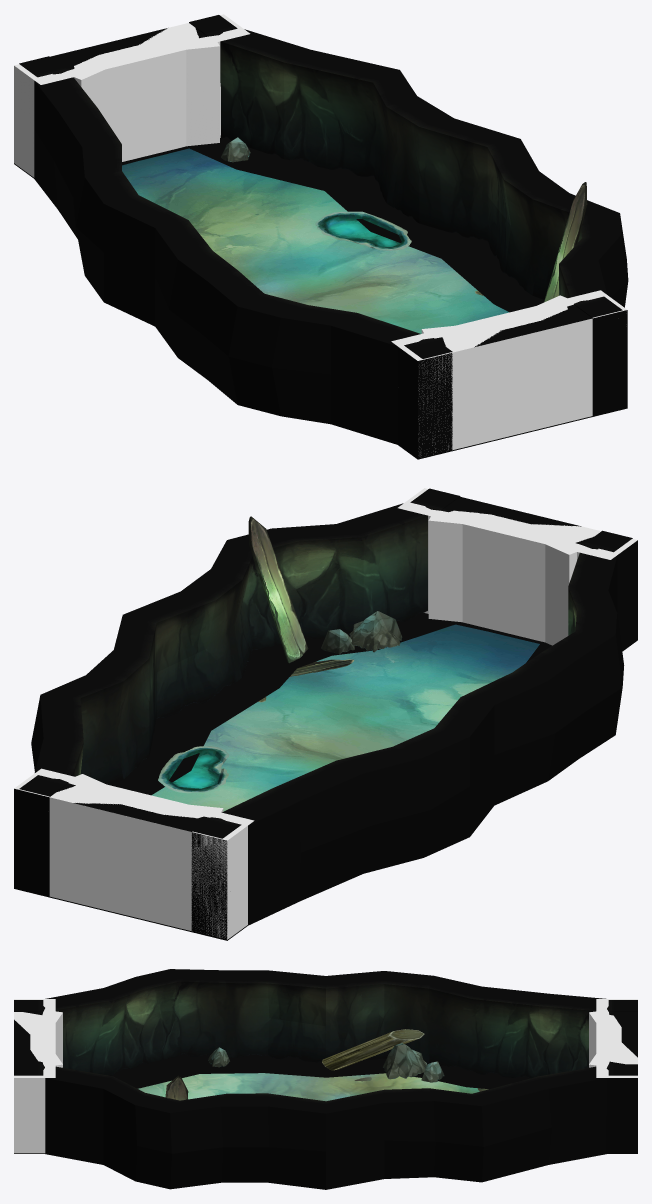
The model's file is Dungeon_073_Road_002.fbx.
3 renders of one model, top to bottom at view 1: azimuth 30°, elevation 25°; view 2: azimuth 150°, elevation 25°; view 3: azimuth 270°, elevation 25°, orthographic. The views are drawn at different scales.
Visible parts, largest first — view 1: Dun_073_Road_002_wall, DoorWay_NavMask (3) (×2), Dun_073_Road_002_ground, DoorWay_NavMask (1) (×2), Dun_073_Road_002_shadow, Dun_073_Door_002 (×2), DoorWay_NavMask (2), Dun_073_OB_Asiato01, Dun_073_OB_Rubble, DoorWay_NavMask (4); view 2: Dun_073_Road_002_wall, DoorWay_NavMask (3) (×2), Dun_073_Road_002_ground, DoorWay_NavMask (1), Dun_073_Road_002_shadow, Dun_073_Door_002 (×2), DoorWay_NavMask (4), DoorWay_NavMask (2) (×2), Dun_073_OB_Rubble, Dun_073_OB_Asiato01, Dun_073_OB_Stone01; view 3: Dun_073_Road_002_wall, DoorWay_NavMask (3) (×2), Dun_073_Road_002_shadow, Dun_073_Road_002_ground, Dun_073_Door_002 (×2), Dun_073_OB_Rubble, Dun_073_OB_Stone01, DoorWay_NavMask (2), DoorWay_NavMask (4), DoorWay_NavMask (1).
Boxes of the visible parts, bbox=[...] form: Dun_073_Road_002_wall: bbox=[14, 29, 628, 459]; DoorWay_NavMask (3) (×2): bbox=[14, 14, 627, 455]; Dun_073_Road_002_ground: bbox=[122, 148, 508, 333]; DoorWay_NavMask (1) (×2): bbox=[69, 23, 592, 450]; Dun_073_Road_002_shadow: bbox=[185, 137, 544, 312]; Dun_073_Door_002 (×2): bbox=[19, 15, 622, 450]; DoorWay_NavMask (2): bbox=[162, 36, 219, 146]; Dun_073_OB_Asiato01: bbox=[315, 211, 411, 250]; Dun_073_OB_Rubble: bbox=[544, 182, 587, 302]; DoorWay_NavMask (4): bbox=[63, 56, 117, 118]; Dun_073_Road_002_wall: bbox=[14, 503, 637, 940]; DoorWay_NavMask (3) (×2): bbox=[14, 488, 637, 939]; Dun_073_Road_002_ground: bbox=[151, 624, 539, 811]; DoorWay_NavMask (1): bbox=[49, 787, 212, 931]; Dun_073_Road_002_shadow: bbox=[107, 612, 551, 795]; Dun_073_Door_002 (×2): bbox=[19, 488, 632, 931]; DoorWay_NavMask (4): bbox=[428, 510, 487, 622]; DoorWay_NavMask (2) (×2): bbox=[65, 530, 587, 797]; Dun_073_OB_Rubble: bbox=[248, 516, 308, 663]; Dun_073_OB_Asiato01: bbox=[158, 746, 229, 793]; Dun_073_OB_Stone01: bbox=[321, 611, 402, 654]; Dun_073_Road_002_wall: bbox=[14, 969, 637, 1189]; DoorWay_NavMask (3) (×2): bbox=[14, 999, 637, 1153]; Dun_073_Road_002_shadow: bbox=[110, 1053, 530, 1089]; Dun_073_Road_002_ground: bbox=[138, 1073, 479, 1101]; Dun_073_Door_002 (×2): bbox=[14, 1000, 637, 1075]; Dun_073_OB_Rubble: bbox=[165, 1029, 424, 1100]; Dun_073_OB_Stone01: bbox=[208, 1043, 444, 1082]; DoorWay_NavMask (2): bbox=[37, 1010, 62, 1063]; DoorWay_NavMask (4): bbox=[589, 1011, 616, 1063]; DoorWay_NavMask (1): bbox=[14, 1011, 47, 1049].
Size of what is drawn, in the model's own units: 8.54 by 2.73 by 15.
